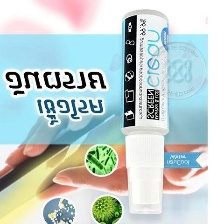cleaning_solution: (115, 6, 173, 217)
phone: (0, 99, 139, 222)
